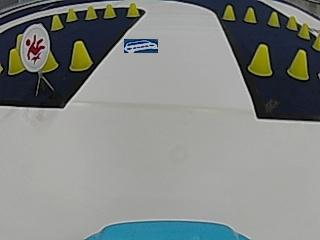cone: (250, 41, 274, 78), (67, 38, 93, 71), (289, 49, 310, 81), (9, 49, 24, 73), (223, 3, 238, 23), (244, 4, 256, 24), (268, 10, 282, 27), (105, 4, 119, 20), (65, 7, 78, 23), (51, 13, 63, 30), (288, 15, 299, 32), (126, 2, 138, 17), (299, 22, 309, 40), (87, 5, 98, 21), (314, 34, 319, 49)
tumble: (23, 26, 45, 69)
